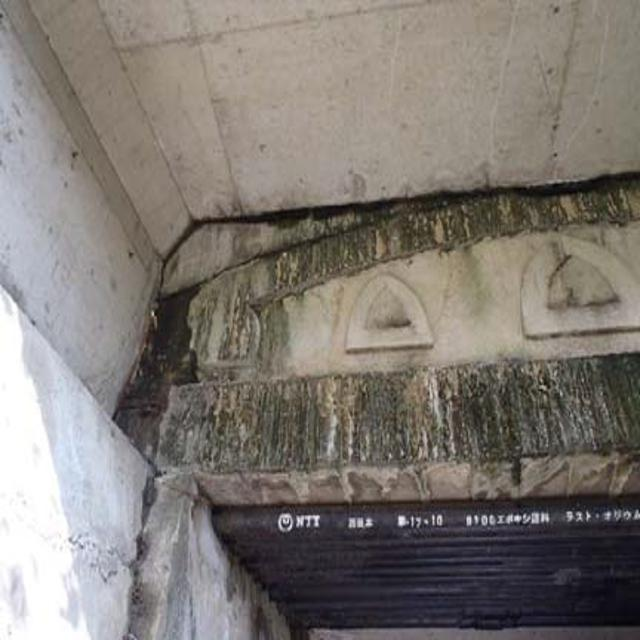leakage: (240, 187, 639, 244), (98, 264, 195, 483)
